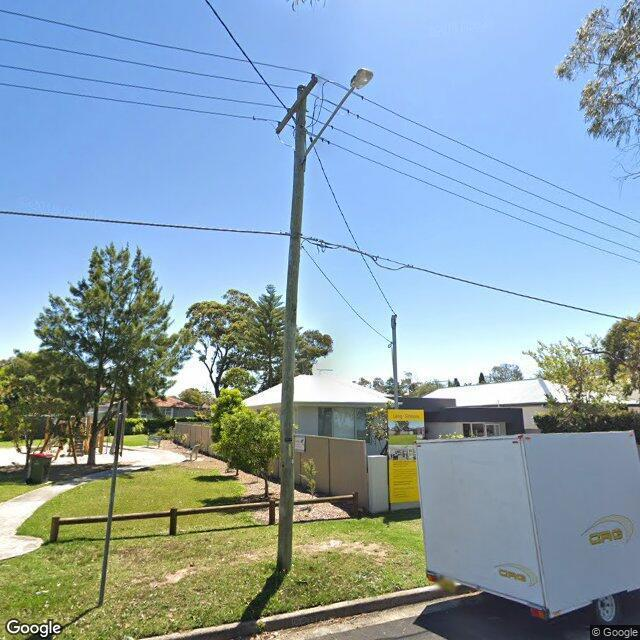crossarm: (275, 74, 318, 134)
steel-pole: (390, 315, 399, 410)
streetlight: (300, 69, 374, 167)
timber-pole: (276, 84, 308, 572)
